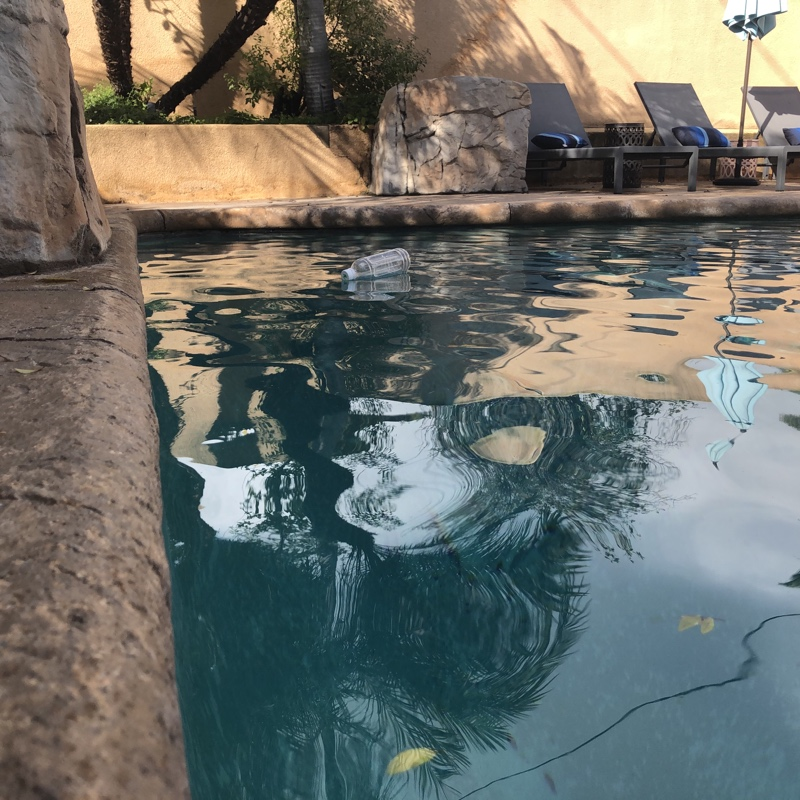Plastic Bottle: (340, 244, 413, 286)
